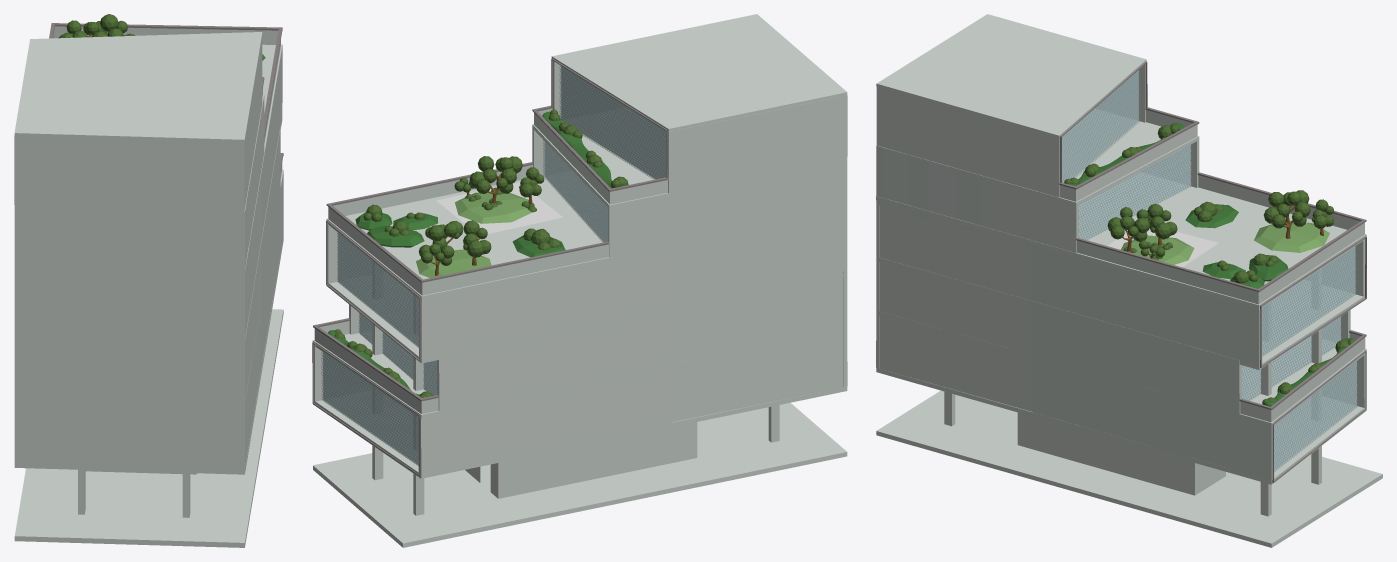
3 renders of one model, left to right at view 1: azimuth 30°, elevation 25°; view 2: azimuth 150°, elevation 25°; view 3: azimuth 270°, elevation 25°, orthographic. The views are drawn at different scales.
Parts seen in each view (by area): view 1: Object.2041, Object.2038, Object.2019, Object.2037, Object.2047, Object.2042, Object.2051, Object.2027, Object.2029, Object.2049, Object.2025, Object.2059 (+4 smaller); view 2: Object.2040, Object.2019, Object.2038, Object.2047, Object.2033, Object.2031, Object.2026, Object.2037, Object.2060, Object.2051, Object.2039, Object.2059 (+27 smaller); view 3: Object.2042, Object.2019, Object.2038, Object.2029, Object.2049, Object.2047, Object.2037, Object.2025, Object.2051, Object.2060, Object.2059, Object.2052 (+28 smaller).
Part boxes in pixels (x1=…): Object.2041: x1=14, y1=273, x2=245, y2=469; Object.2038: x1=14, y1=32, x2=262, y2=143; Object.2019: x1=14, y1=309, x2=283, y2=547; Object.2037: x1=14, y1=37, x2=262, y2=211; Object.2047: x1=14, y1=93, x2=264, y2=280; Object.2042: x1=245, y1=190, x2=259, y2=464; Object.2051: x1=14, y1=44, x2=282, y2=275; Object.2027: x1=14, y1=236, x2=283, y2=474; Object.2029: x1=260, y1=170, x2=283, y2=375; Object.2049: x1=260, y1=50, x2=282, y2=247; Object.2025: x1=260, y1=126, x2=280, y2=310; Object.2059: x1=53, y1=26, x2=280, y2=143; Object.2040: x1=671, y1=218, x2=843, y2=422; Object.2019: x1=313, y1=402, x2=847, y2=547; Object.2038: x1=551, y1=14, x2=847, y2=131; Object.2047: x1=532, y1=124, x2=847, y2=266; Object.2033: x1=421, y1=254, x2=671, y2=358; Object.2031: x1=418, y1=368, x2=671, y2=474; Object.2026: x1=437, y1=312, x2=671, y2=410; Object.2037: x1=552, y1=61, x2=847, y2=193; Object.2060: x1=465, y1=422, x2=697, y2=498; Object.2051: x1=326, y1=176, x2=842, y2=300; Object.2039: x1=561, y1=66, x2=665, y2=179; Object.2059: x1=328, y1=165, x2=608, y2=295; Object.2042: x1=880, y1=206, x2=1032, y2=411; Object.2019: x1=876, y1=390, x2=1382, y2=547; Object.2038: x1=876, y1=14, x2=1146, y2=138; Object.2029: x1=1032, y1=355, x2=1271, y2=480; Object.2049: x1=1032, y1=245, x2=1262, y2=365; Object.2047: x1=876, y1=140, x2=1199, y2=252; Object.2037: x1=876, y1=64, x2=1145, y2=197; Object.2025: x1=1032, y1=301, x2=1242, y2=413; Object.2051: x1=876, y1=173, x2=1366, y2=309; Object.2060: x1=1017, y1=412, x2=1225, y2=495; Object.2059: x1=1077, y1=175, x2=1364, y2=304; Object.2052: x1=1262, y1=246, x2=1355, y2=355.
Bounding box in the file's own units: 2.38 × 2.14 × 2.8.
9 materials, 1 textured.
